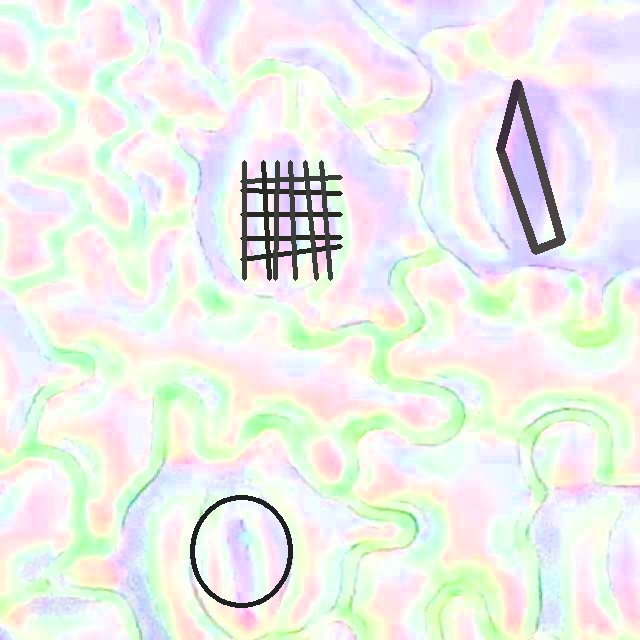close: (189, 494, 293, 608)
open: (240, 160, 342, 280), (496, 79, 565, 254)
